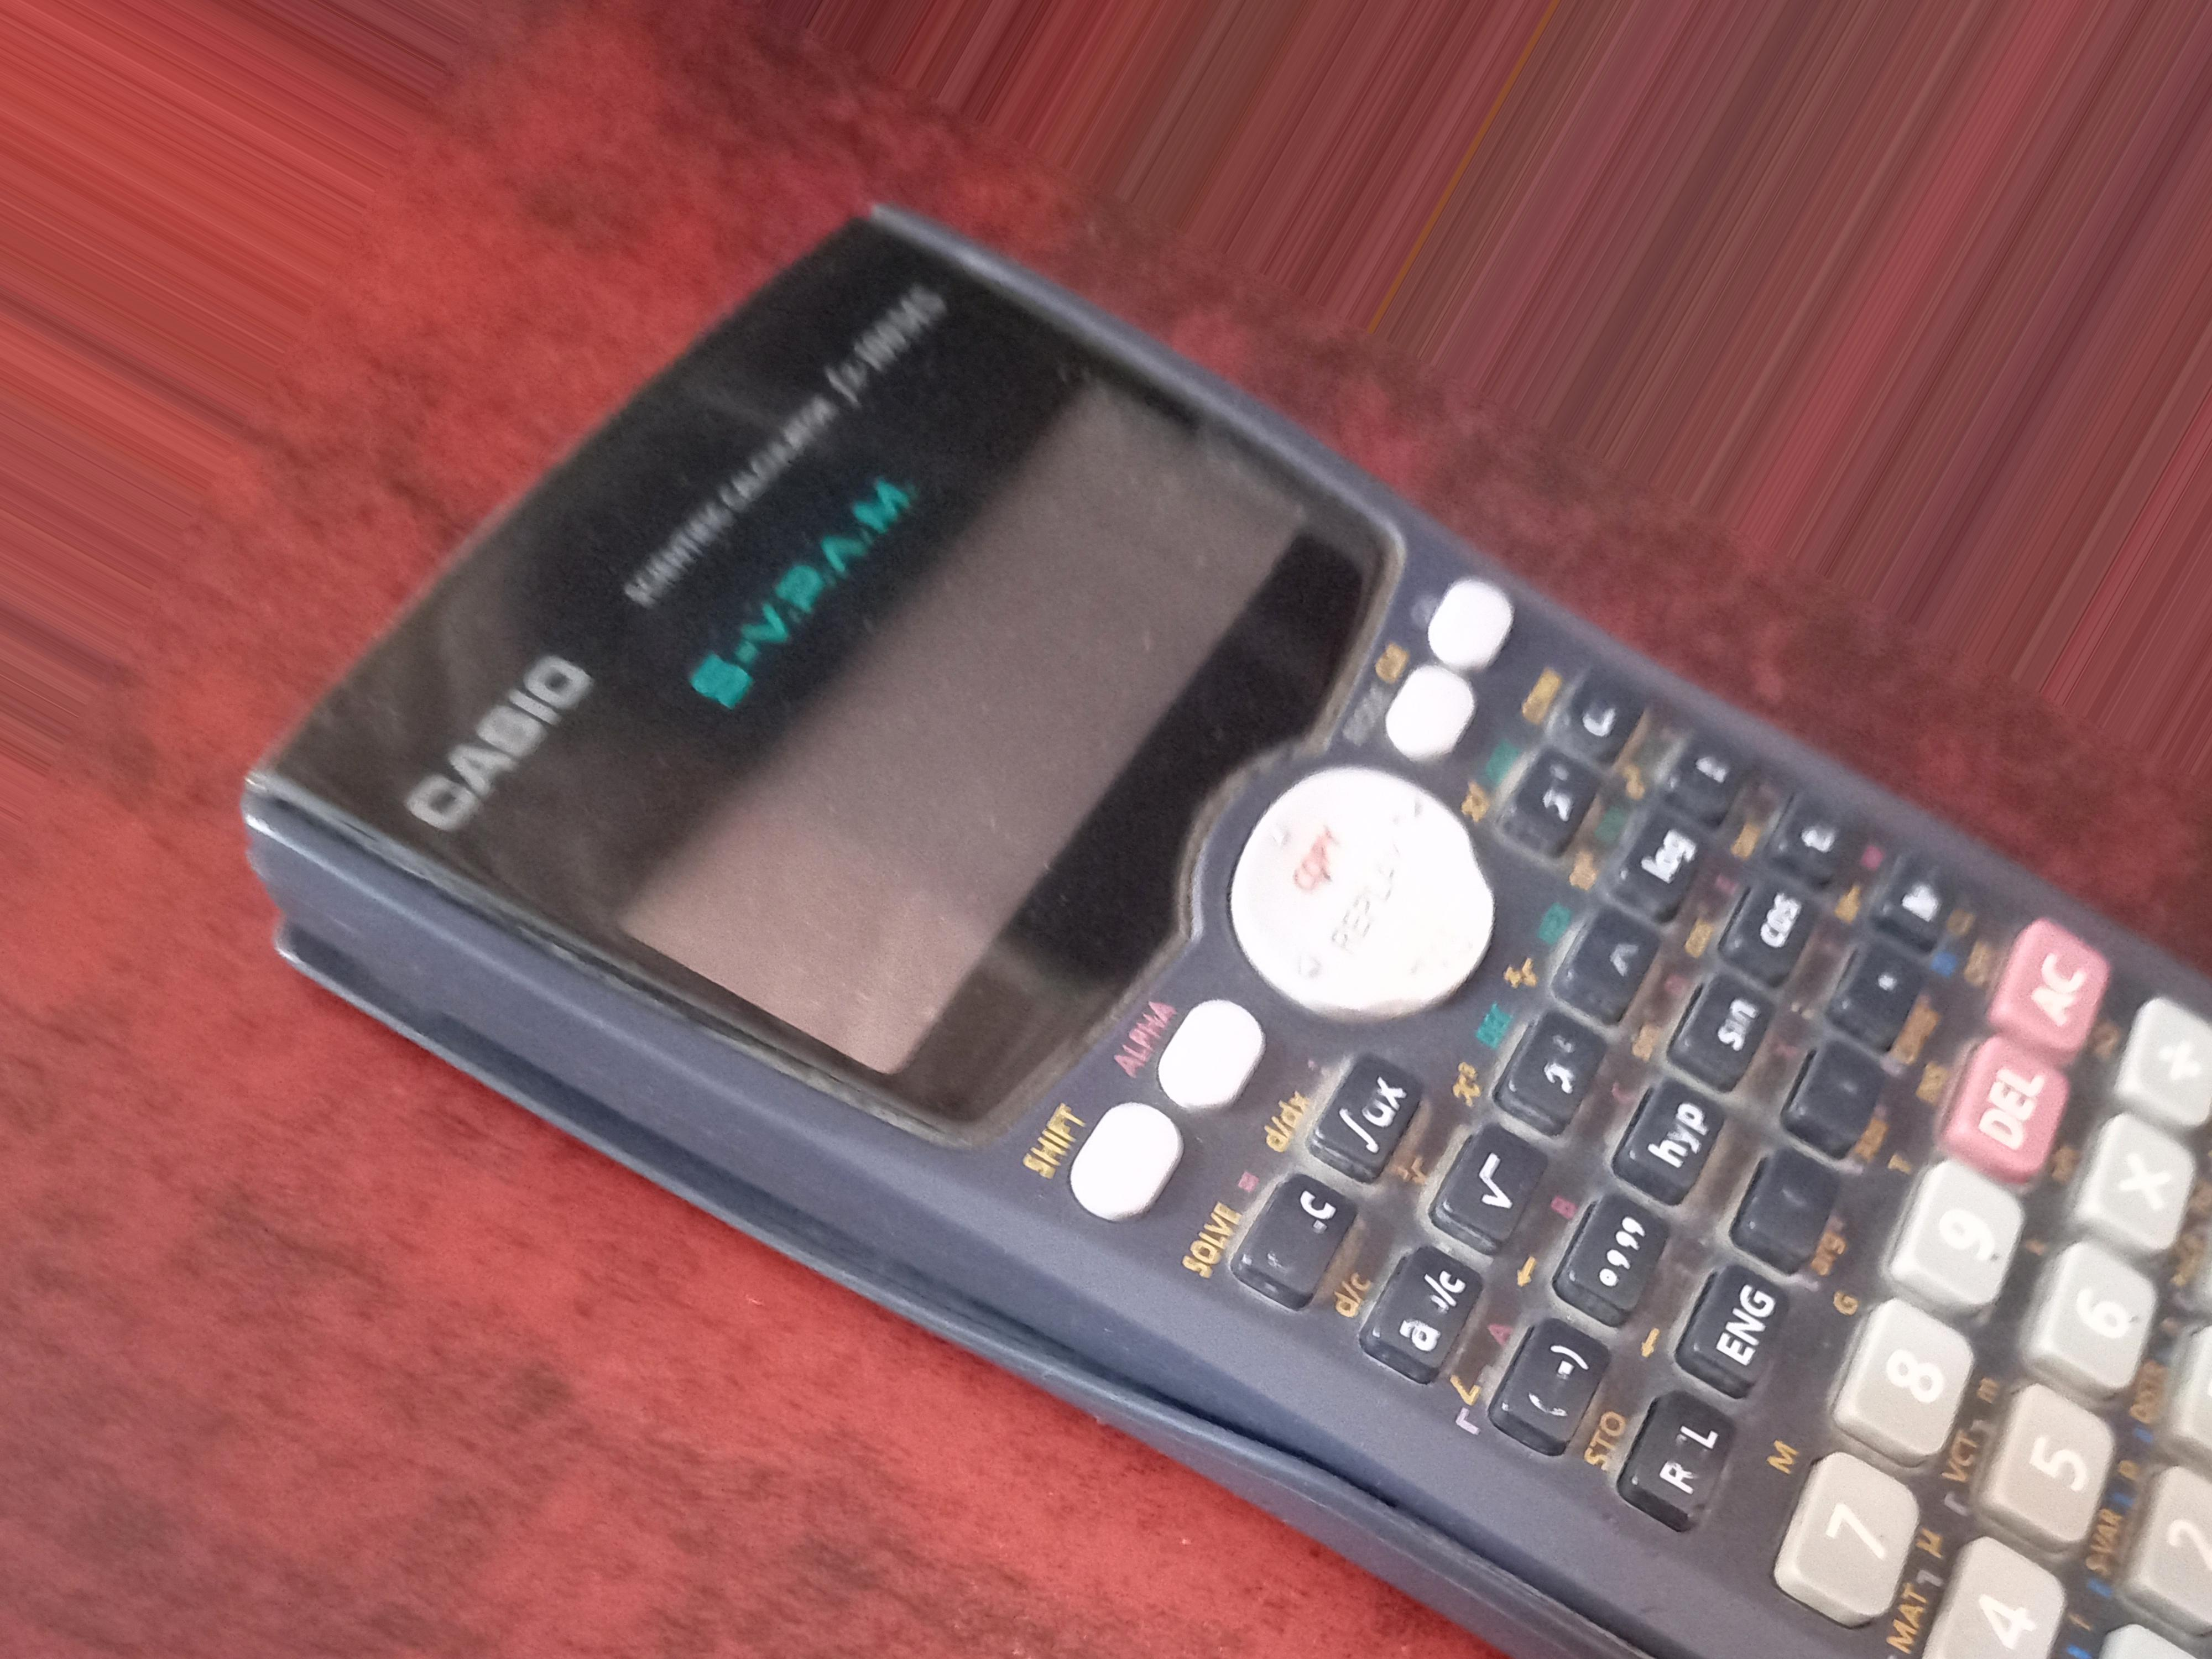calculator: (369, 352, 2212, 1636)
